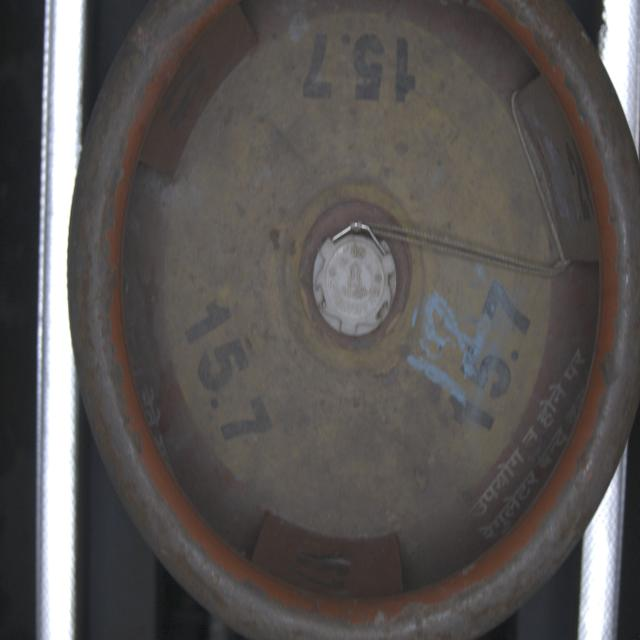Cap: (313, 223, 398, 341)
